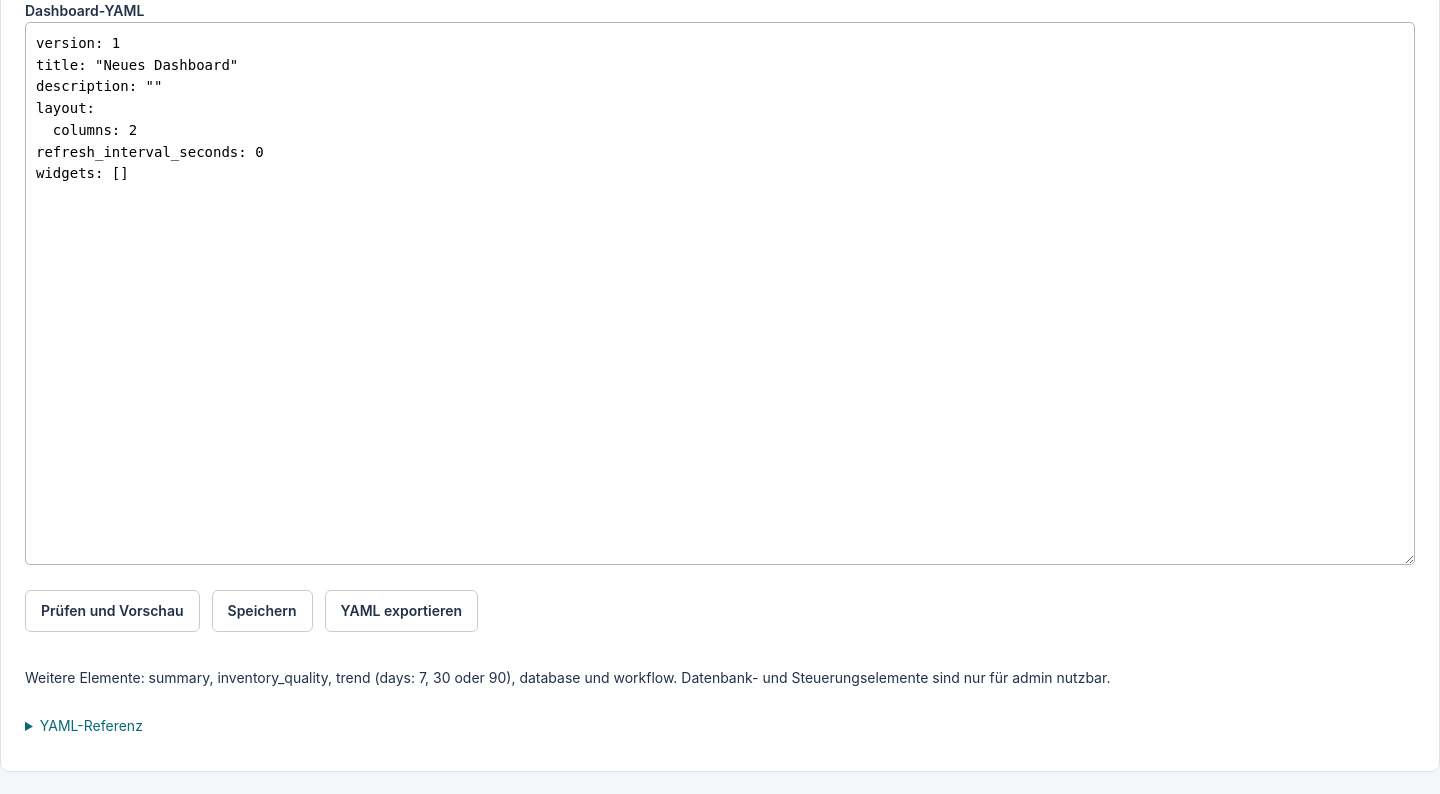
Test: keeps editing enabled when validation is temporarily unavailable before saving
(page scrolled)
Click the button "Speichern" at (262, 611), box [212, 590, 313, 632]
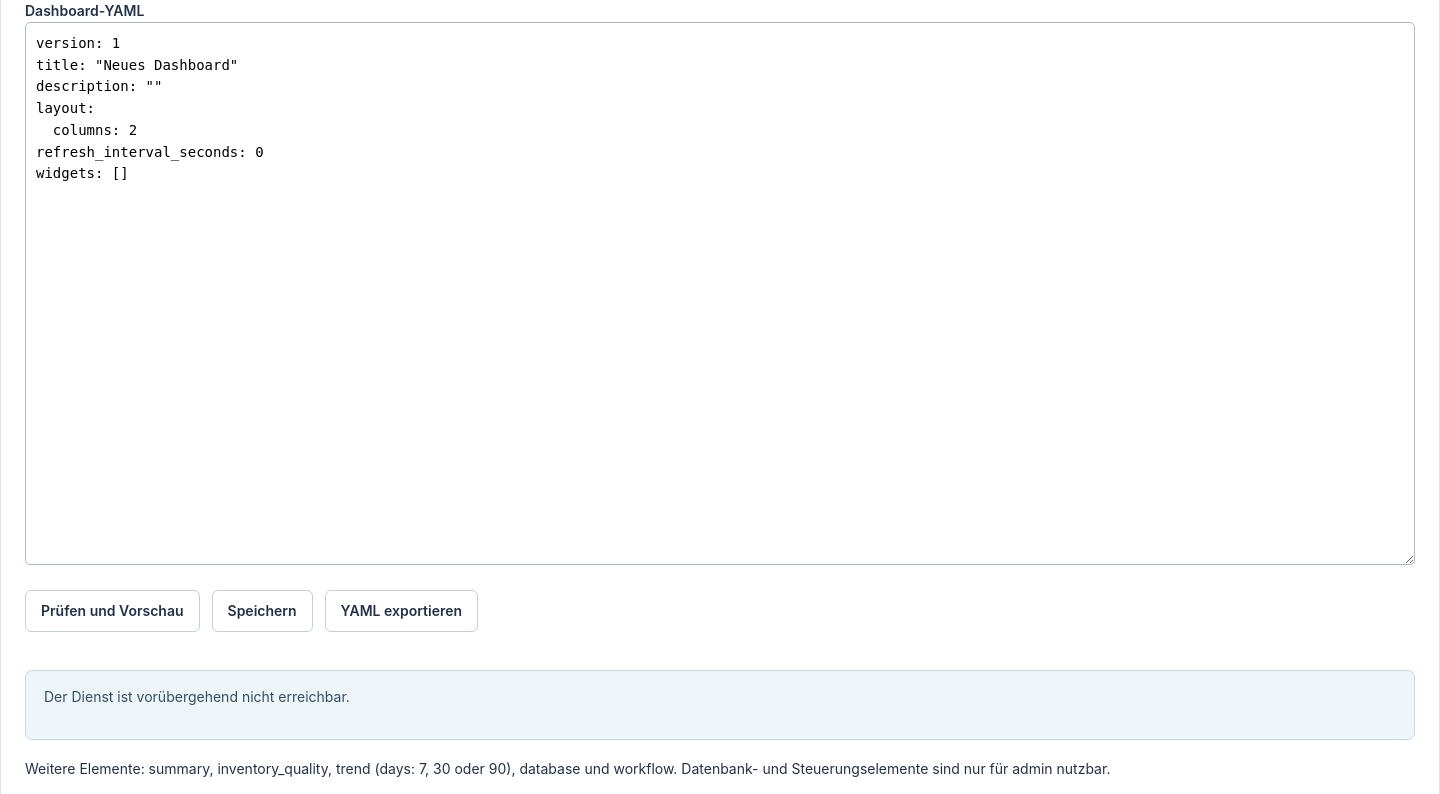
Now the message "Der Dienst ist vorübergehend nicht erreichbar." is shown, box [25, 670, 1415, 740]
